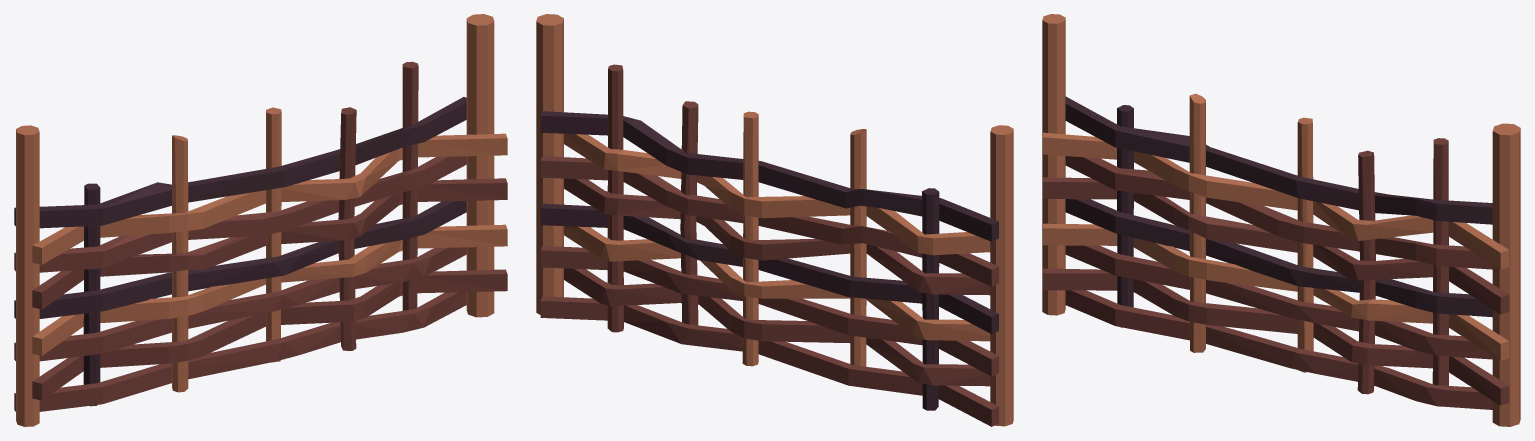
The model's file is Fence_Wooden_04.fbx.
3 views of the same model, side by side, from view 1: azimuth 30°, elevation 25°; view 2: azimuth 150°, elevation 25°; view 3: azimuth 330°, elevation 25° (orthographic).
Parts seen in each view (by area): view 1: Fence_Wooden_04; view 2: Fence_Wooden_04; view 3: Fence_Wooden_04.
Boxes of the visible parts, x1=… form: Fence_Wooden_04: x1=14, y1=14, x2=507, y2=426; Fence_Wooden_04: x1=536, y1=14, x2=1013, y2=426; Fence_Wooden_04: x1=1042, y1=14, x2=1520, y2=426.
Size of the model in its own units: 212 by 124 by 22.82.
